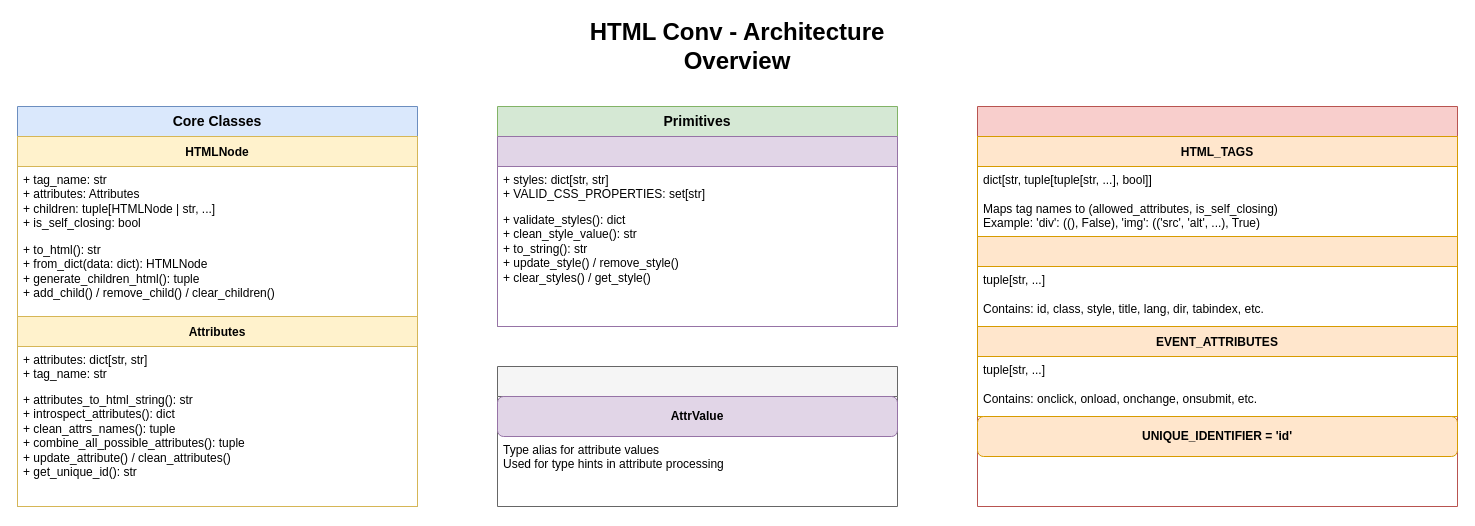
Image size: 1475x526. Some labels were removed from this diagram. Here are the shapes that lost their labels. From the top down, the box of each, then its label:
(496, 136, 898, 326): InlineStyles
(976, 236, 1458, 326): GLOBAL_ATTRIBUTES
(976, 106, 1458, 506): Constants & Mappers
(496, 366, 898, 506): Type Definitions
